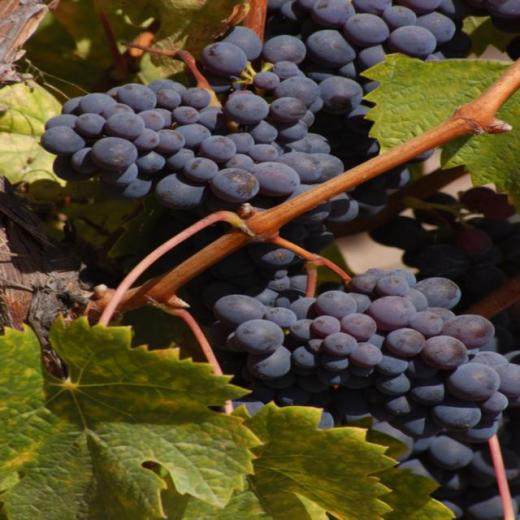Orange: (40, 0, 519, 519)
